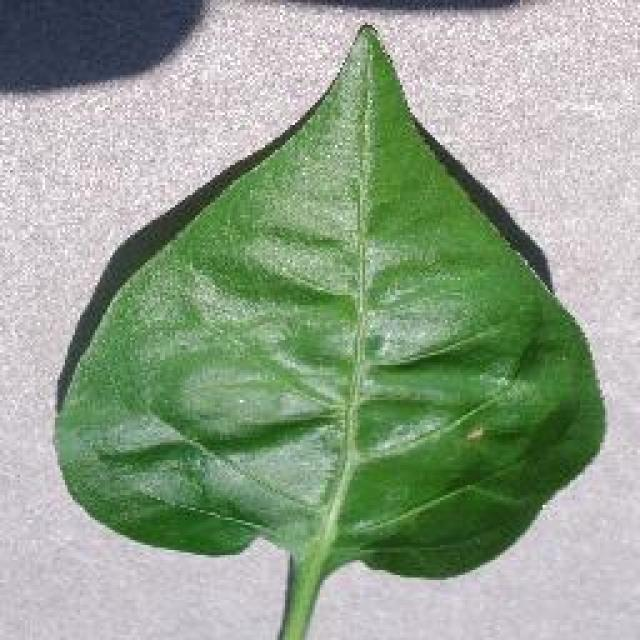Chilli_Healthy: (50, 20, 608, 638)
